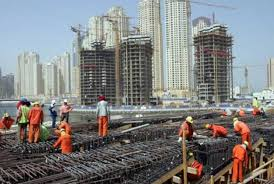arm: (50, 134, 62, 149), (14, 105, 22, 123), (39, 107, 44, 124)
footwear: (18, 137, 24, 144), (27, 138, 33, 144), (34, 138, 41, 143)
helmet: (18, 94, 29, 104), (31, 97, 41, 106), (185, 114, 194, 124), (2, 110, 10, 118), (61, 97, 69, 104), (203, 121, 209, 129)
human: (91, 88, 115, 146), (227, 136, 252, 183), (51, 116, 75, 154), (180, 150, 207, 183), (27, 95, 44, 143), (229, 107, 253, 141), (44, 94, 58, 129), (58, 95, 73, 121), (1, 109, 13, 131)
leg: (102, 118, 111, 144), (94, 118, 103, 142), (230, 158, 238, 183), (237, 159, 244, 182), (27, 123, 34, 144), (17, 122, 24, 143), (34, 123, 41, 143)
nohelmet: (95, 90, 108, 100)
vest: (184, 158, 202, 180), (57, 130, 72, 151), (232, 120, 250, 137), (96, 100, 109, 121), (232, 143, 247, 161), (18, 104, 29, 123), (30, 106, 41, 124), (60, 104, 71, 117), (1, 117, 9, 128)
